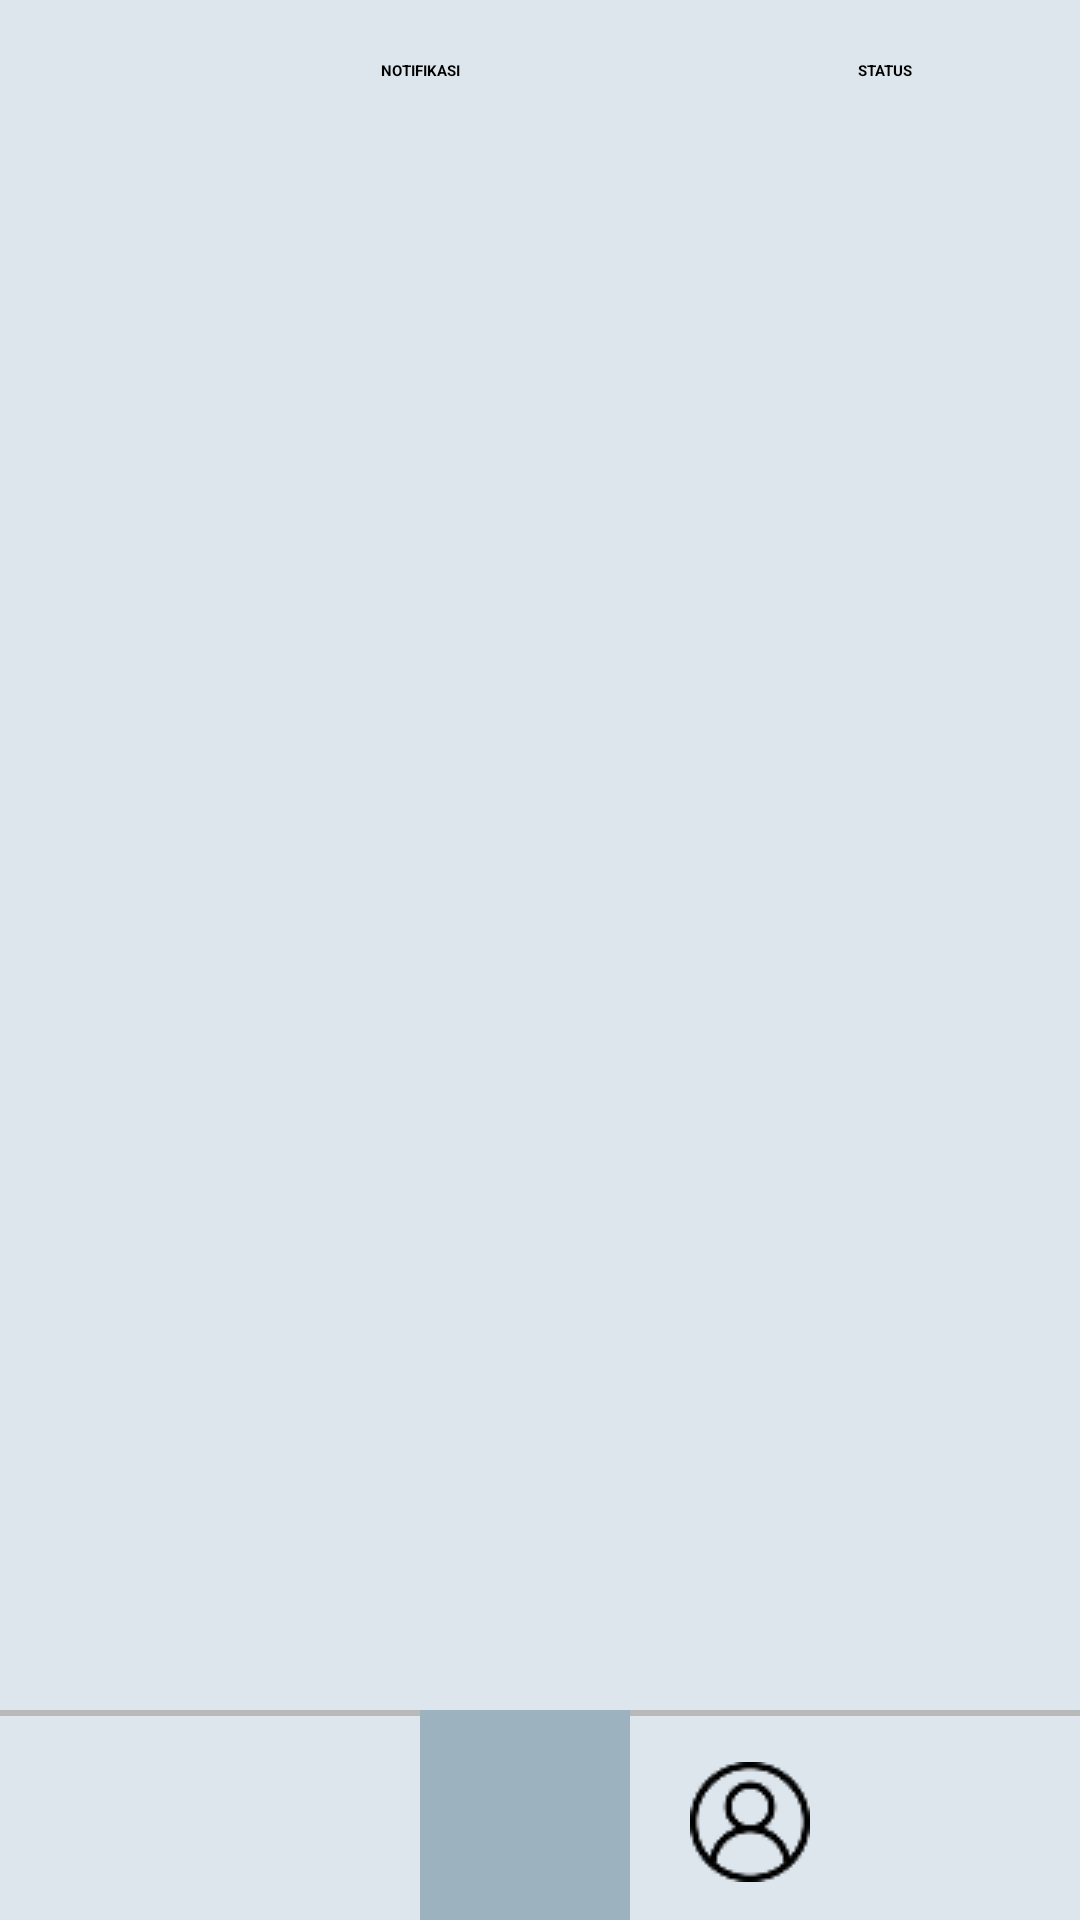

Where to tap for icons on this 1080 × 1920 app screen, as (x=x, y=y):
profile: (x=750, y=1822)
